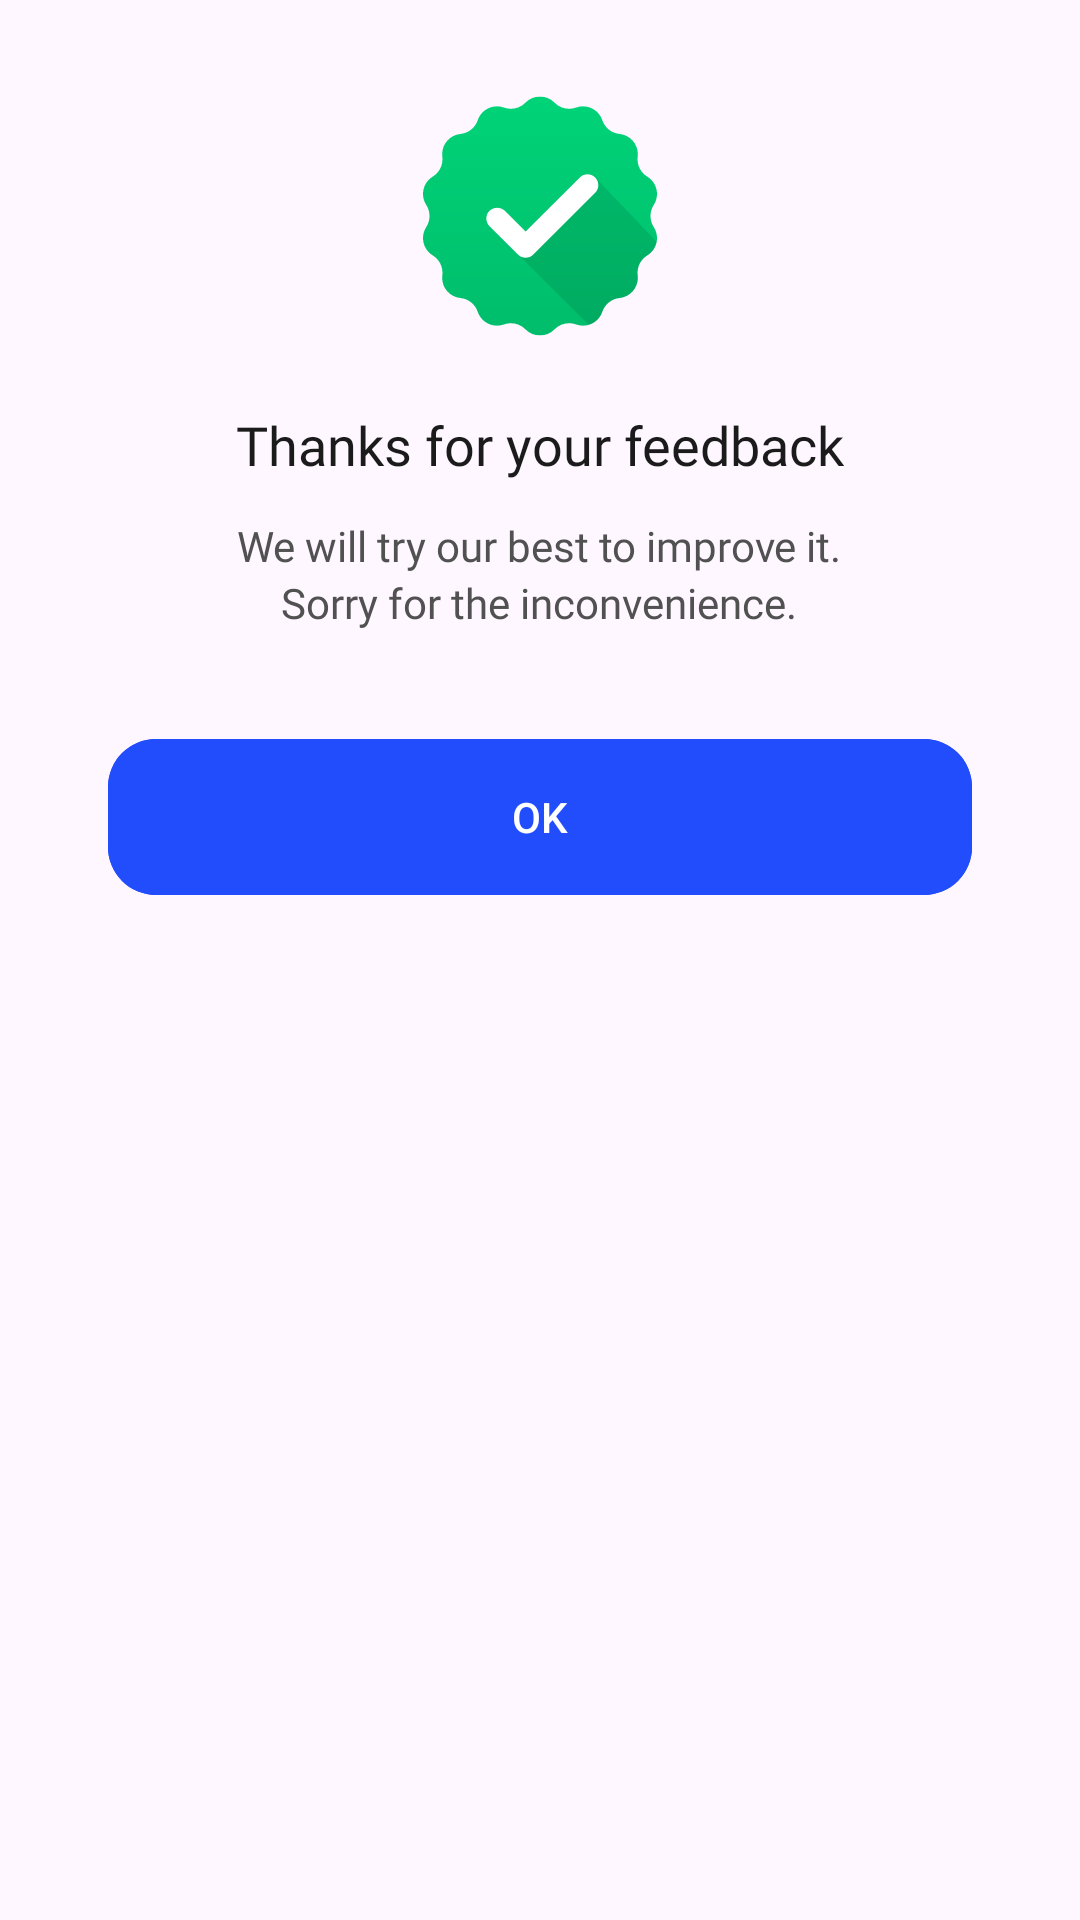

Named icons in this screenshot (1080*1920) and their bounding boxes, (x1, y1, x2, y2):
success: (423, 96, 657, 336)
